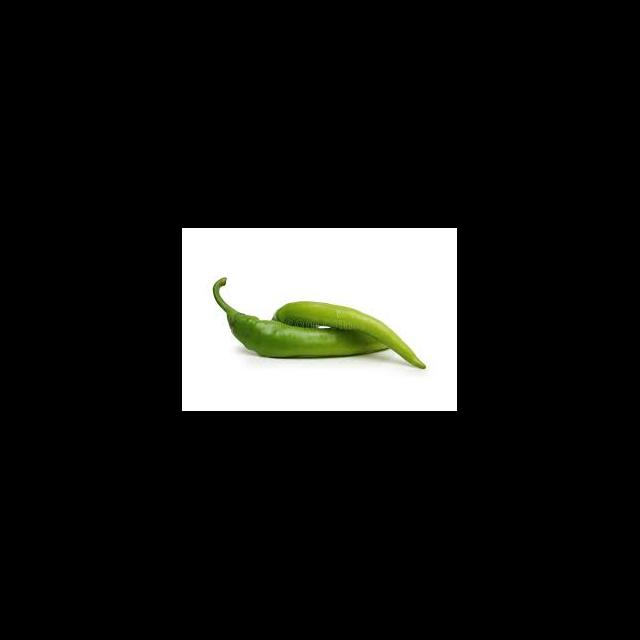chili_pepper: (270, 300, 428, 368), (234, 313, 347, 359)
